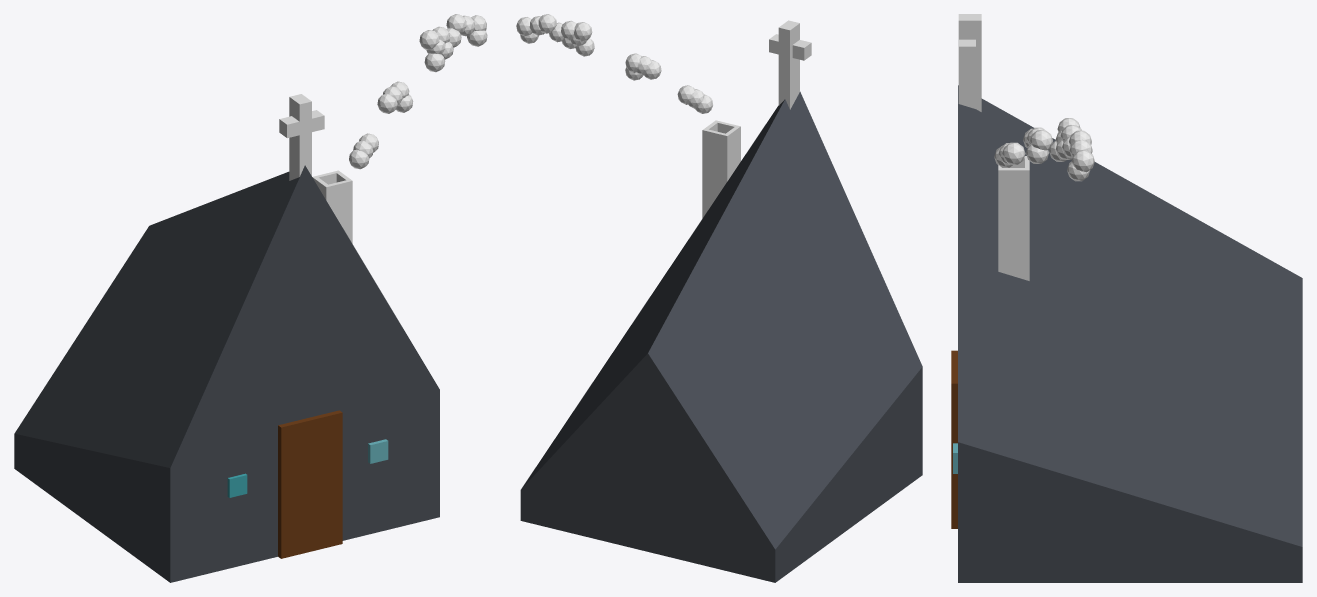
The model's file is houseCHURCH.glb.
3 views of the same model, side by side, from view 1: azimuth 30°, elevation 25°; view 2: azimuth 150°, elevation 25°; view 3: azimuth 270°, elevation 25° (orthographic). The views are drawn at different scales.
Parts seen in each view (by area): view 1: Cube, Cube.003, Cube.004, Cube.002, Cube.005; view 2: Cube, Cube.002, Cube.004, Cube.005; view 3: Cube, Cube.002, Cube.004, Cube.003.
Part boxes in pixels (x1,y1,x2,y2): Cube: (14,165,439,582); Cube.003: (278,410,342,558); Cube.004: (289,94,311,180); Cube.002: (312,170,352,243); Cube.005: (279,110,324,138); Cube: (520,91,922,582); Cube.002: (702,120,740,218); Cube.004: (778,20,799,109); Cube.005: (769,34,811,60); Cube: (958,85,1302,582); Cube.002: (998,156,1029,280); Cube.004: (958,14,981,111); Cube.003: (951,350,957,528).
Size of the model in its own units: 40.58 by 46.59 by 30.06.
